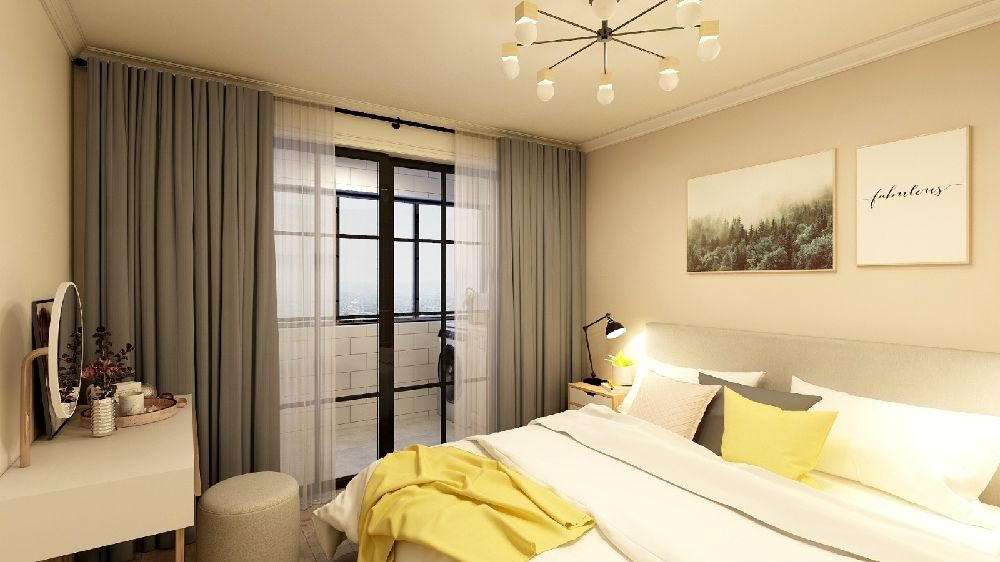床: (334, 398, 975, 562)
枕头: (640, 381, 987, 511)
灯: (493, 6, 738, 113), (584, 314, 633, 399)
